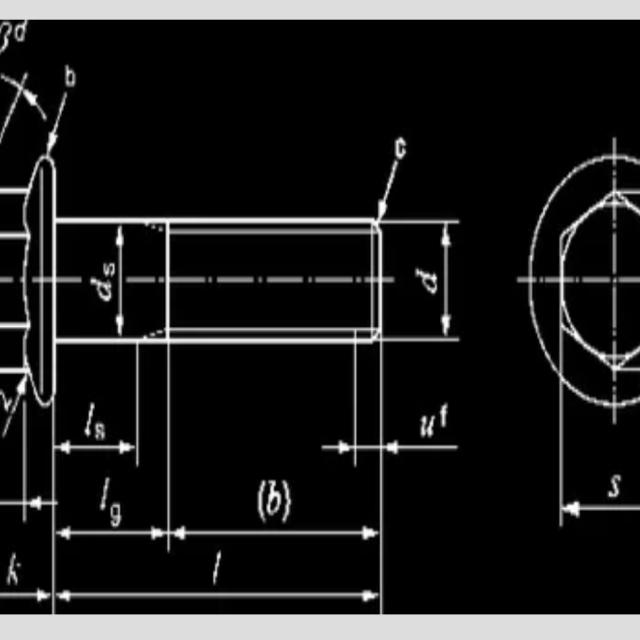marking_line: (0, 407, 386, 613), (163, 347, 386, 549), (49, 405, 174, 560), (319, 346, 465, 468), (383, 218, 461, 343), (557, 411, 640, 527), (376, 345, 460, 458), (0, 409, 59, 540), (51, 406, 147, 475), (320, 346, 367, 469), (96, 346, 141, 468), (0, 60, 49, 154), (556, 399, 580, 530), (45, 62, 78, 155), (114, 224, 128, 335), (379, 160, 399, 219)
numeric: (0, 20, 13, 54), (15, 22, 29, 44)
